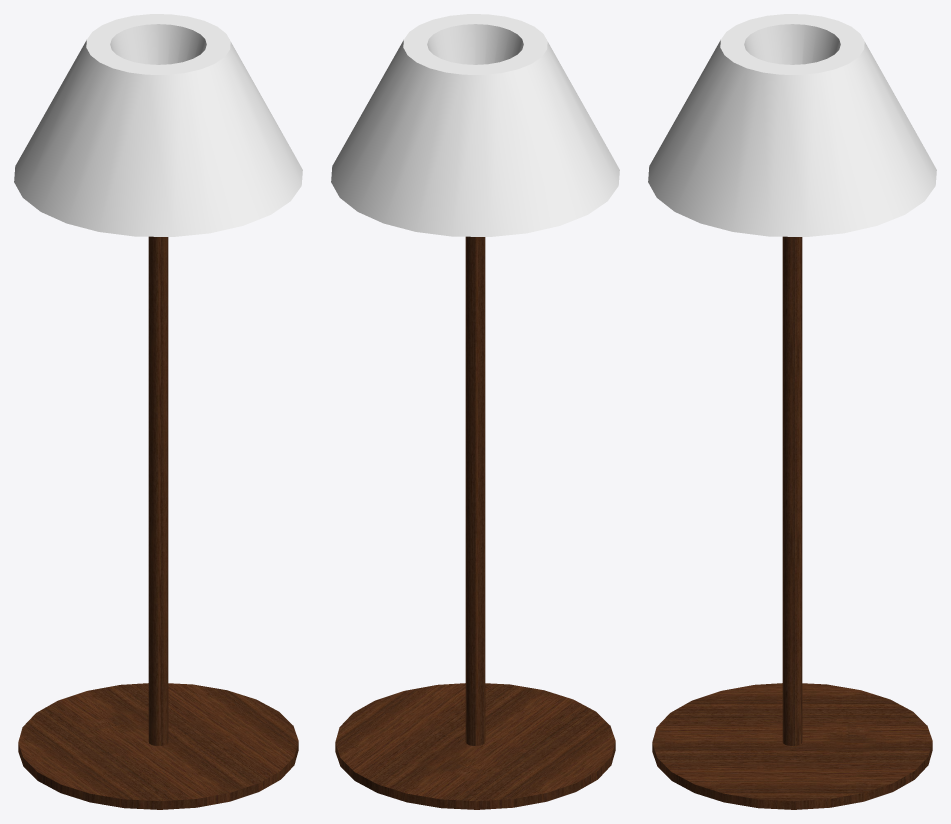
The model's file is AbajurLazer.dae.
The picture shows the model from 3 angles, left to right: view 1: azimuth 30°, elevation 25°; view 2: azimuth 150°, elevation 25°; view 3: azimuth 270°, elevation 25°; orthographic projection.
Visible parts, largest first — view 1: instance_0 (×4); view 2: instance_0 (×4); view 3: instance_0 (×4).
Part boxes in pixels (left/top/right/bottom): instance_0 (×4): left=14, top=14, right=302, bottom=809; instance_0 (×4): left=331, top=14, right=619, bottom=809; instance_0 (×4): left=648, top=14, right=936, bottom=809.
Bounding box in the file's own units: 23.5 × 23.5 × 63.41.
Materials: 3 (1 with a texture image).
